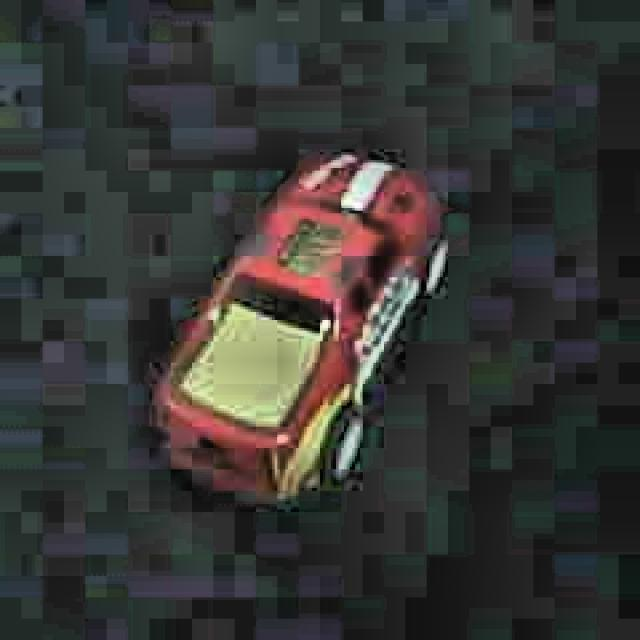car: (147, 147, 456, 509)
